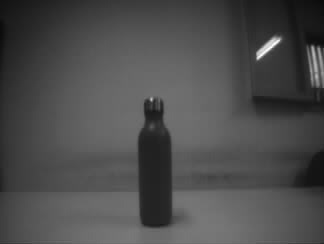Bottle: (135, 94, 172, 226)
